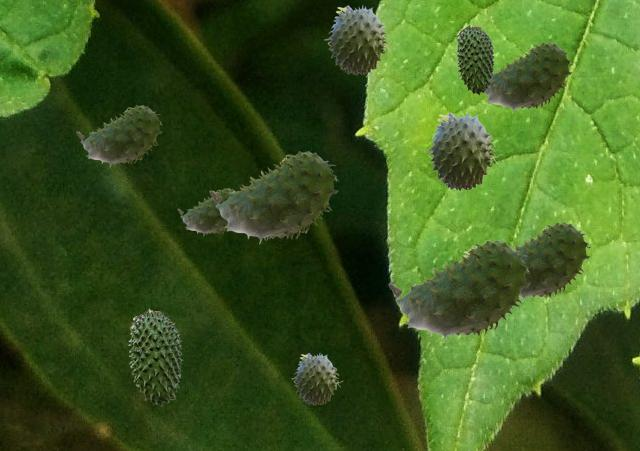guyabano: (388, 240, 529, 341), (209, 151, 337, 243), (424, 111, 501, 190), (485, 42, 571, 112), (513, 222, 589, 301), (128, 308, 182, 405), (76, 105, 161, 166), (324, 4, 393, 74), (455, 24, 494, 94), (291, 352, 342, 404), (177, 188, 233, 235)
